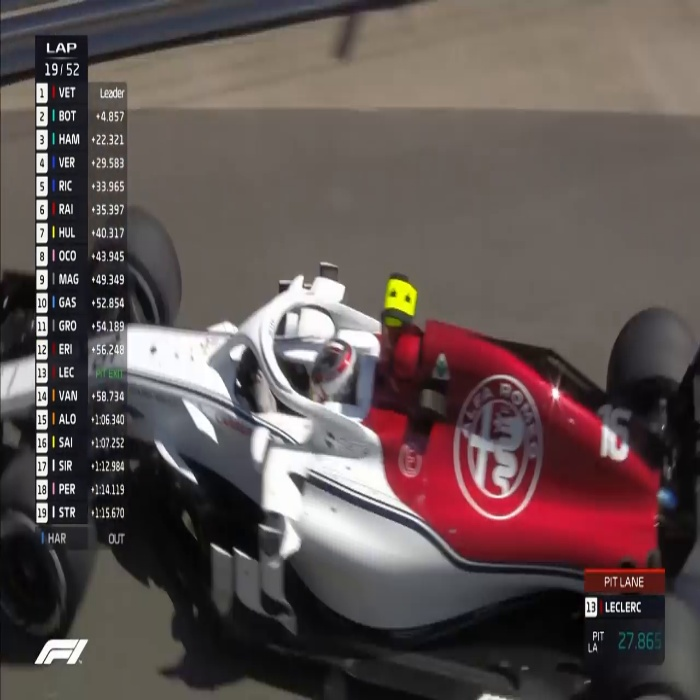f1_car: (4, 187, 690, 700)
